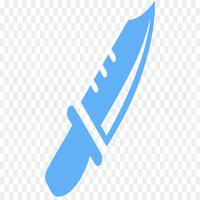knife: (47, 1, 157, 195)
